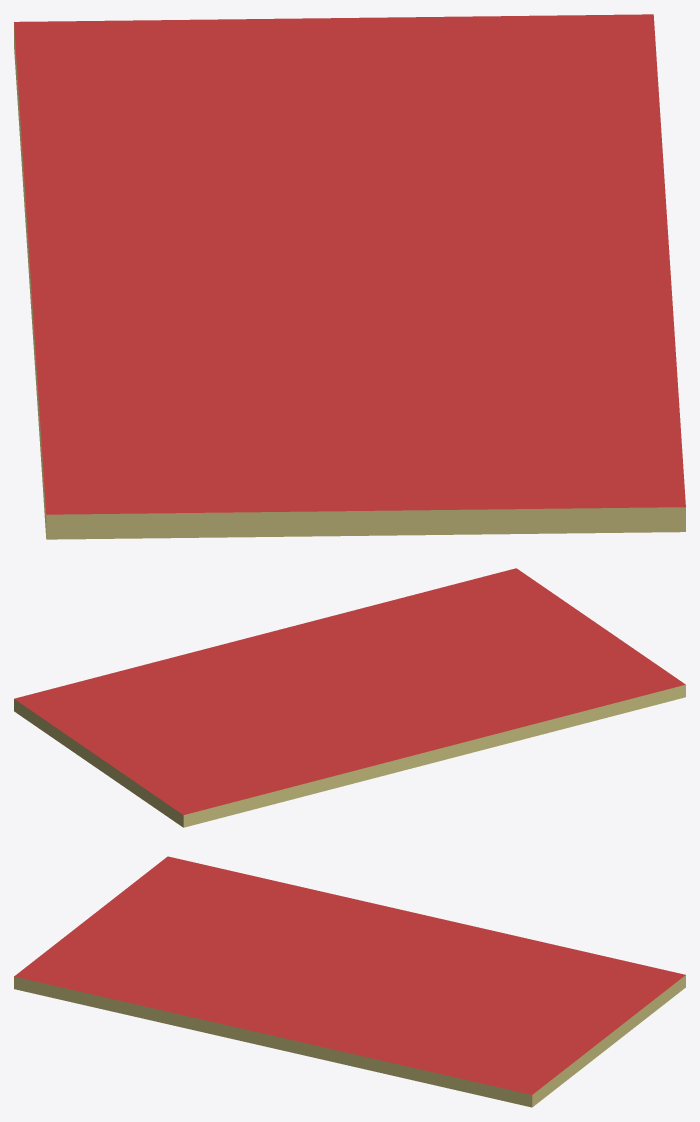
The picture shows the model from 3 angles, top to bottom: view 1: azimuth 30°, elevation 25°; view 2: azimuth 150°, elevation 25°; view 3: azimuth 270°, elevation 25°; orthographic projection. The views are drawn at different scales.
Bounding box in the file's own units: 4.06 × 4.83 × 0.1.
